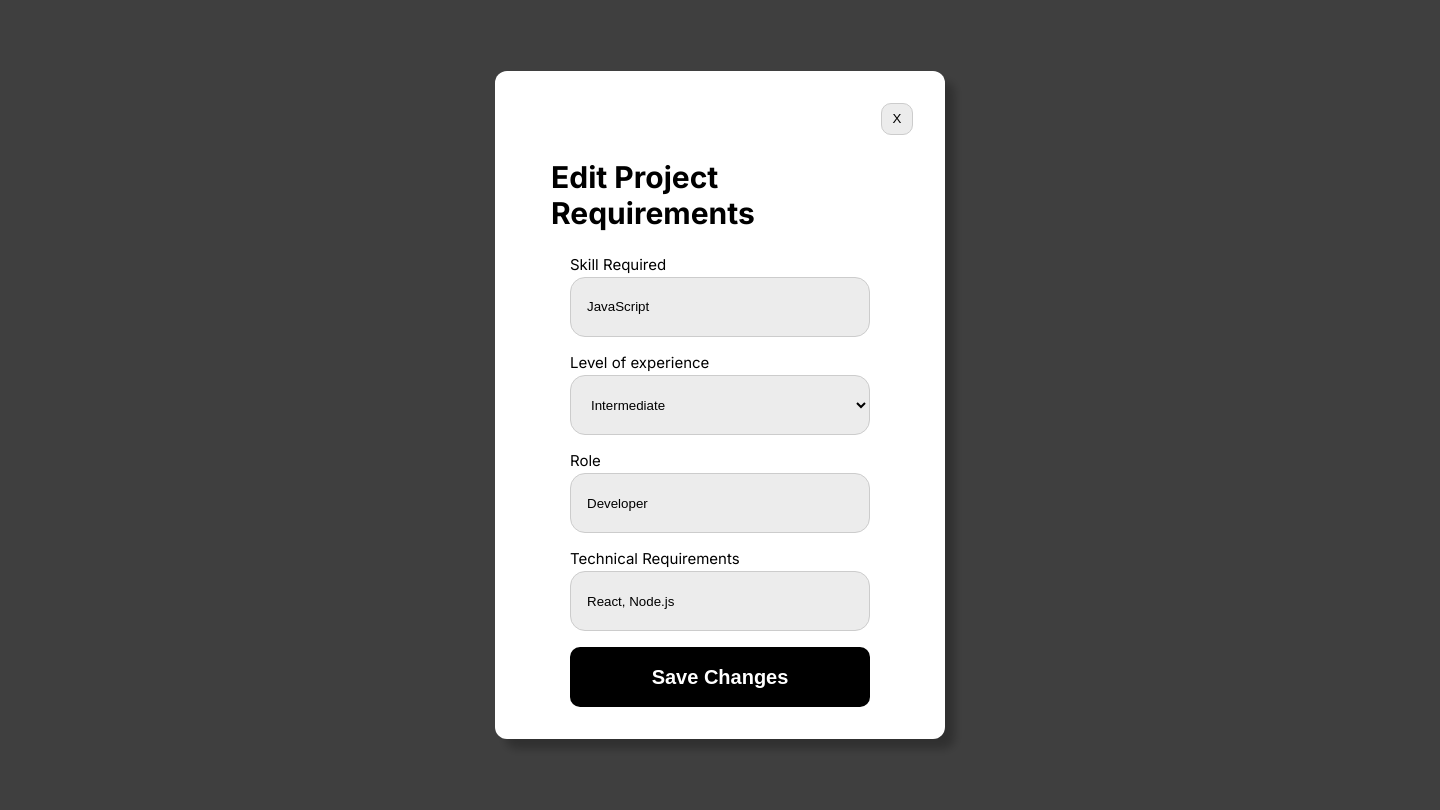
Test case: EditReqForm › shows error if no token is present
Click the button "Save Changes" at [720, 677], box x1=570 y1=647 x2=870 y2=707
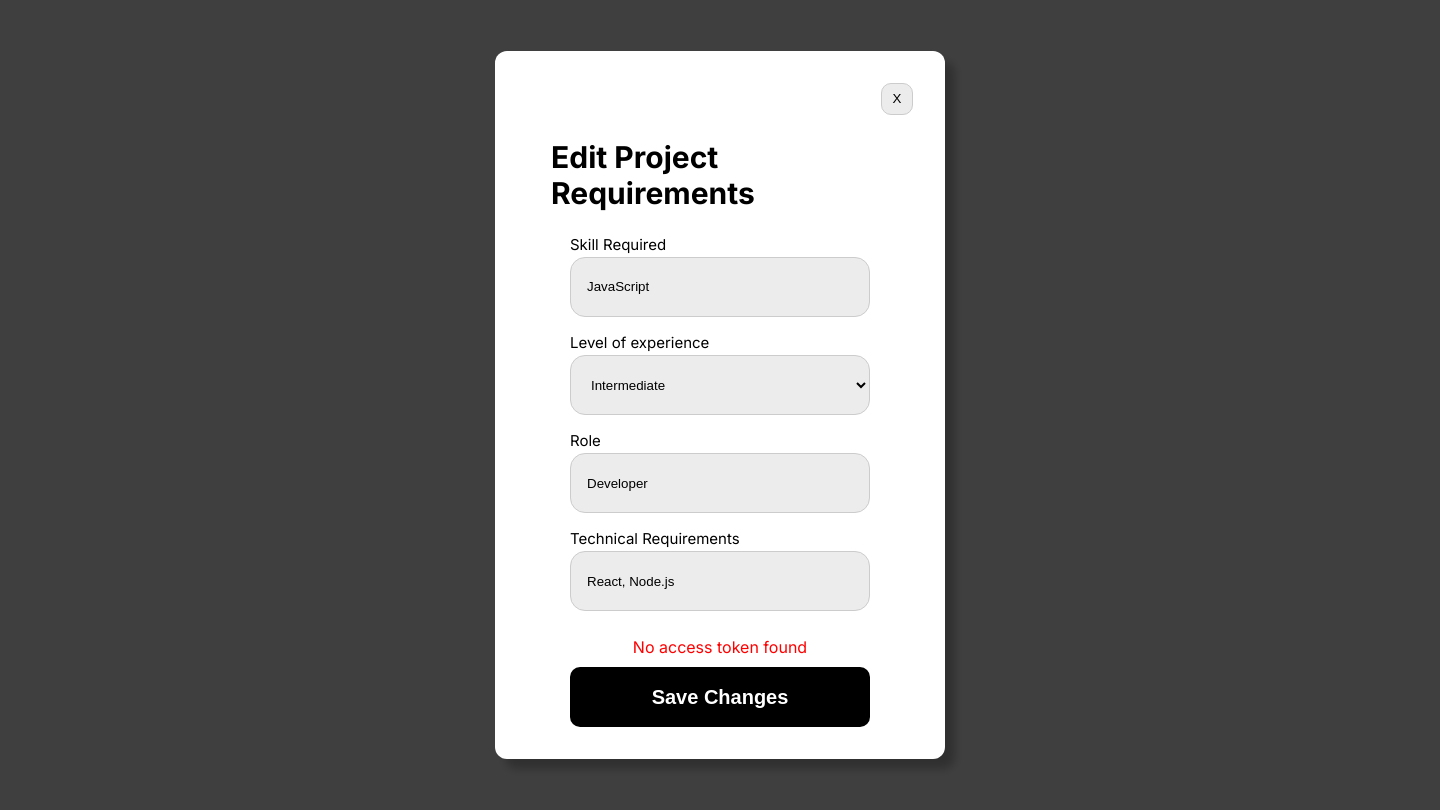
Check: the text "No access token found" is shown, box x1=633 y1=637 x2=807 y2=657
